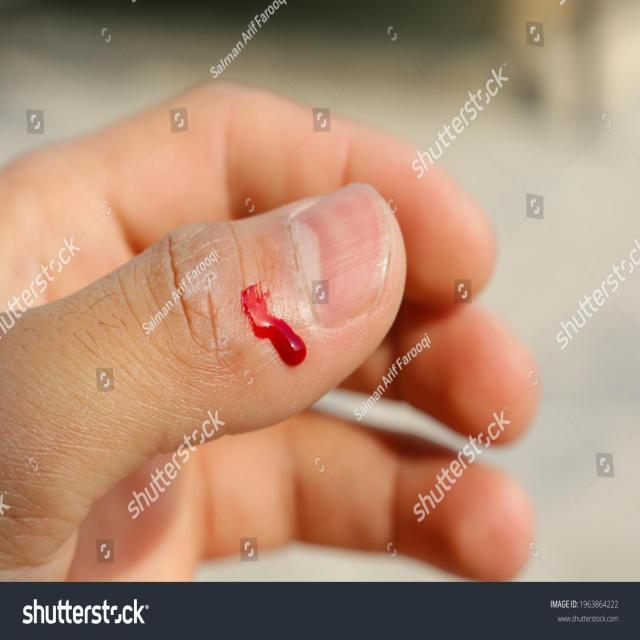flood: (233, 278, 331, 384)
